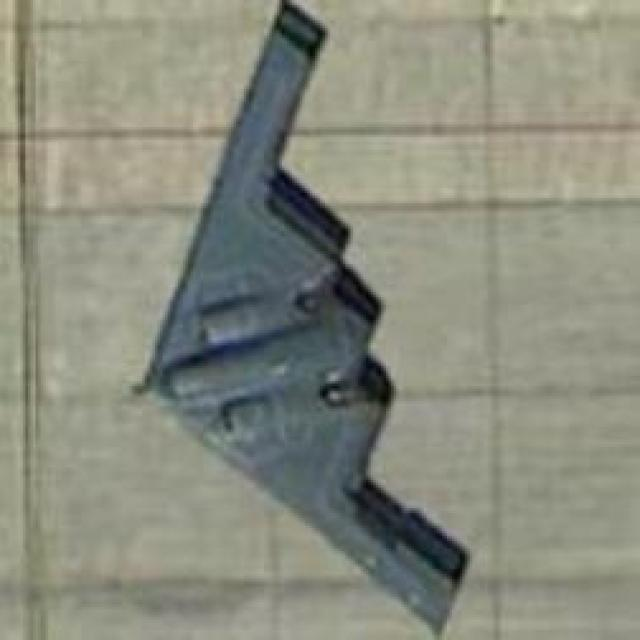B-2_TopDown: (127, 0, 475, 637)
